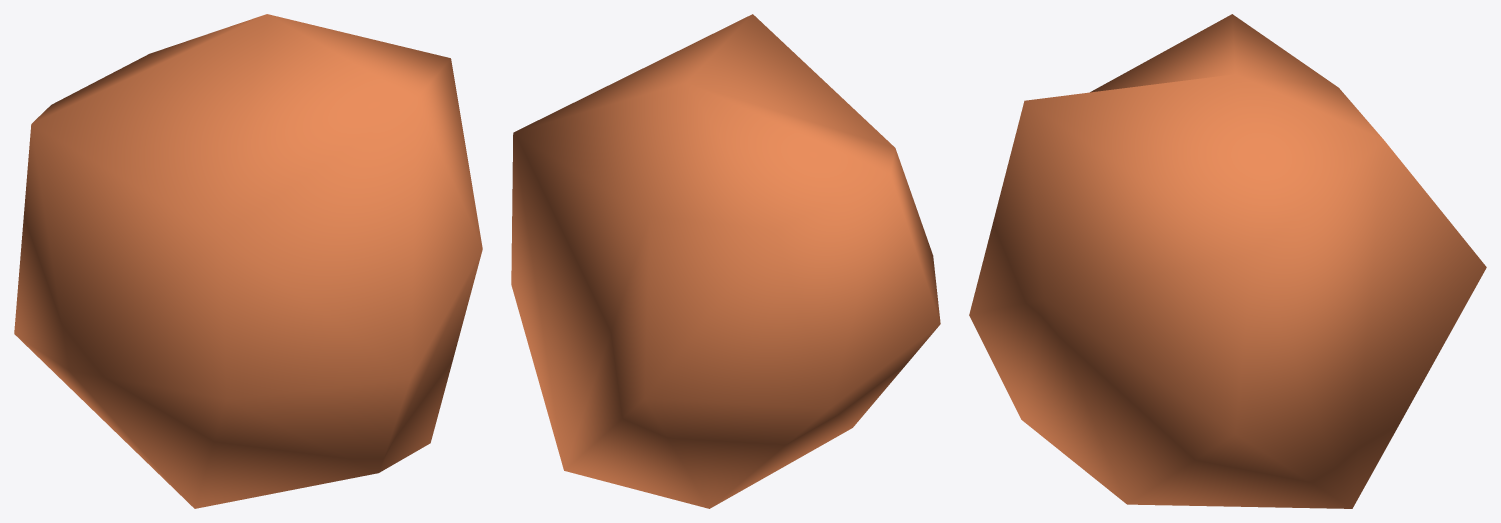
File: roca.fbx
3 renders of one model, left to right at view 1: azimuth 30°, elevation 25°; view 2: azimuth 150°, elevation 25°; view 3: azimuth 270°, elevation 25°, orthographic. The views are drawn at different scales.
Parts seen in each view (by area): view 1: Cube; view 2: Cube; view 3: Cube.
Part boxes in pixels (x1,y1,x2,y2): Cube: (14, 14, 482, 508); Cube: (511, 14, 940, 508); Cube: (969, 14, 1486, 508).
Size of the model in its own units: 293 by 271 by 312.
